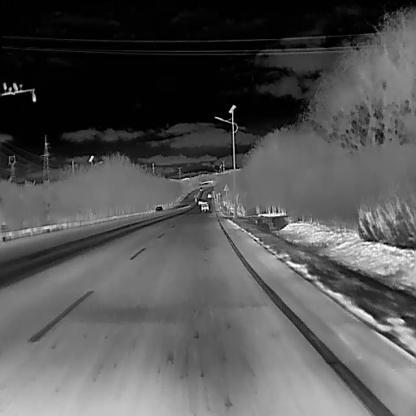car: (200, 200, 210, 210), (154, 205, 162, 213)
